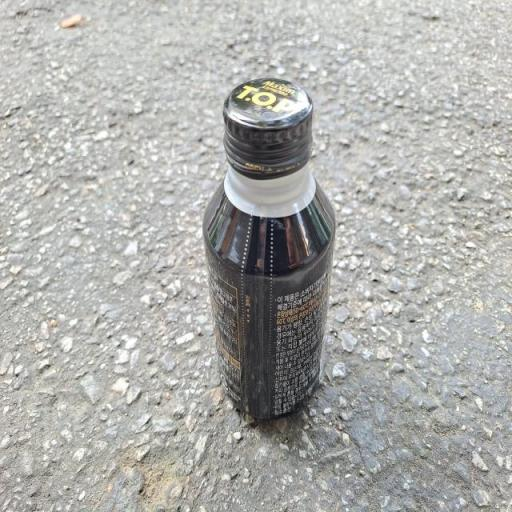metal: (180, 68, 369, 442)
